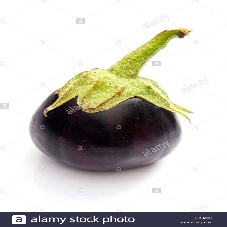eggplant: (29, 74, 186, 172)
